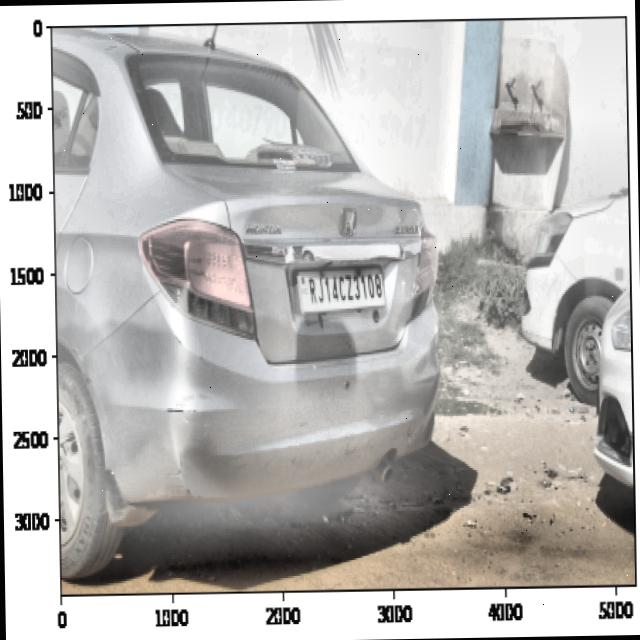license_plate: (302, 264, 389, 311)
